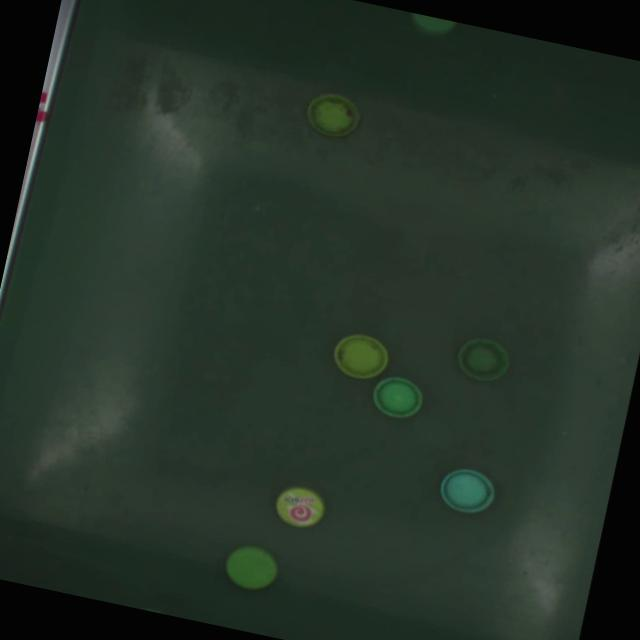others: (328, 328, 392, 382), (220, 540, 282, 594), (436, 464, 499, 517), (452, 332, 514, 385), (302, 89, 363, 140), (368, 372, 428, 423), (271, 481, 329, 531)
